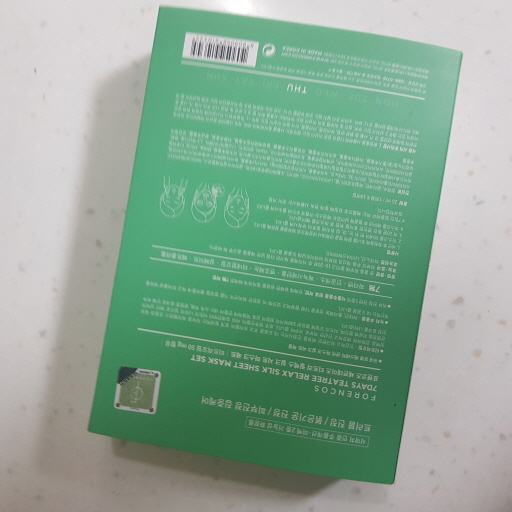Paper_0: (86, 1, 473, 499)
